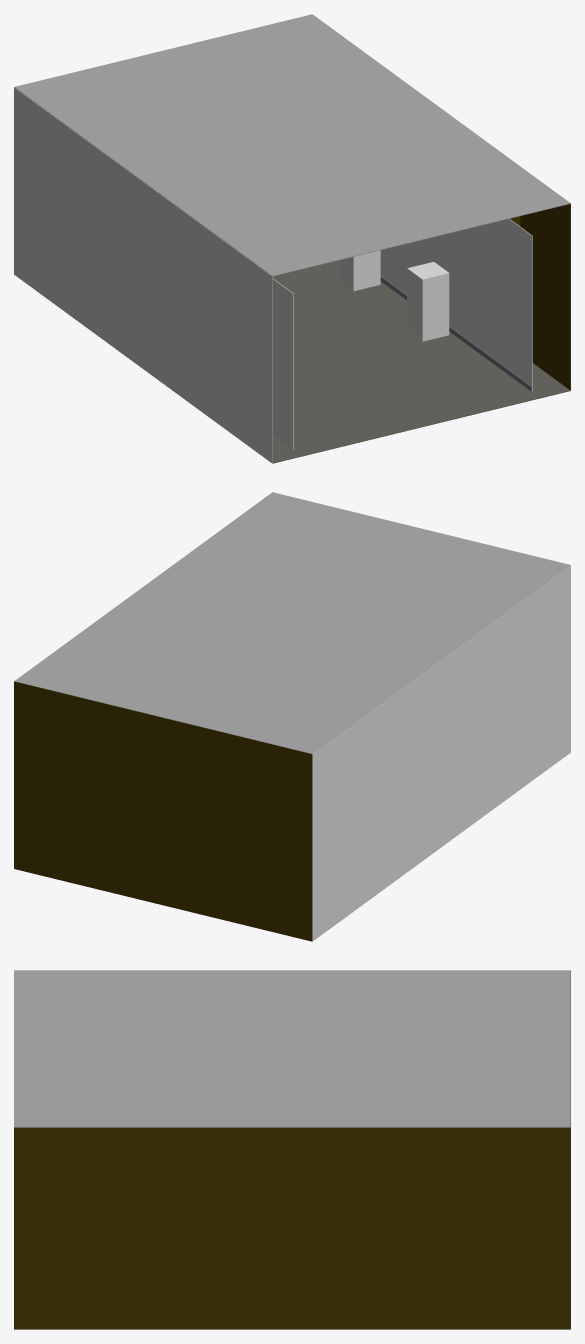
File: gallery_scene_ceiling.fbx
The picture shows the model from 3 angles, top to bottom: view 1: azimuth 30°, elevation 25°; view 2: azimuth 150°, elevation 25°; view 3: azimuth 270°, elevation 25°; orthographic projection. The views are drawn at different scales.
Visible parts, largest first — view 1: pCube30, pCube5, pCube1, pCube2, pCube6, pCube3, pCube20, pCube21, pCube24; view 2: pCube30, pCube7, pCube5; view 3: pCube6, pCube30, pCube1.
Boxes of the visible parts, left/top/right/bottom form: pCube30: left=14, top=14, right=570, bottom=276; pCube5: left=14, top=87, right=272, bottom=463; pCube1: left=272, top=260, right=570, bottom=463; pCube2: left=380, top=219, right=532, bottom=391; pCube6: left=520, top=203, right=570, bottom=390; pCube3: left=272, top=278, right=293, bottom=449; pCube20: left=407, top=262, right=449, bottom=341; pCube21: left=338, top=250, right=380, bottom=290; pCube24: left=380, top=276, right=531, bottom=391; pCube30: left=14, top=492, right=570, bottom=754; pCube7: left=14, top=681, right=312, bottom=941; pCube5: left=312, top=565, right=570, bottom=941; pCube6: left=14, top=1127, right=570, bottom=1329; pCube30: left=14, top=970, right=570, bottom=1127; pCube1: left=14, top=1329, right=570, bottom=1329.
Bounding box in the file's own units: 501 × 301 × 750.
